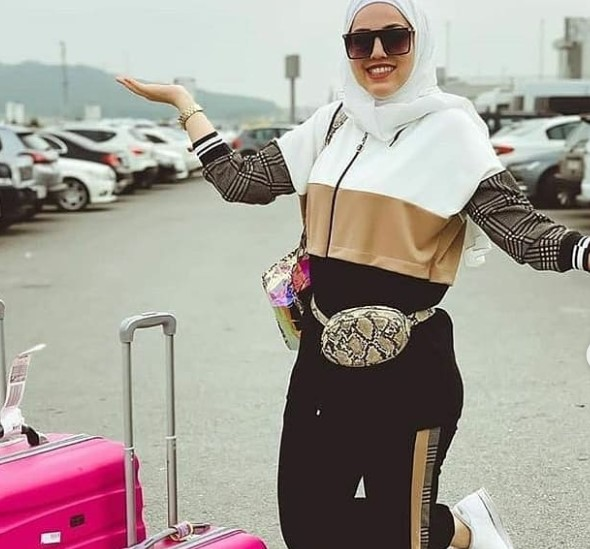face_no_mask: (342, 1, 420, 103)
